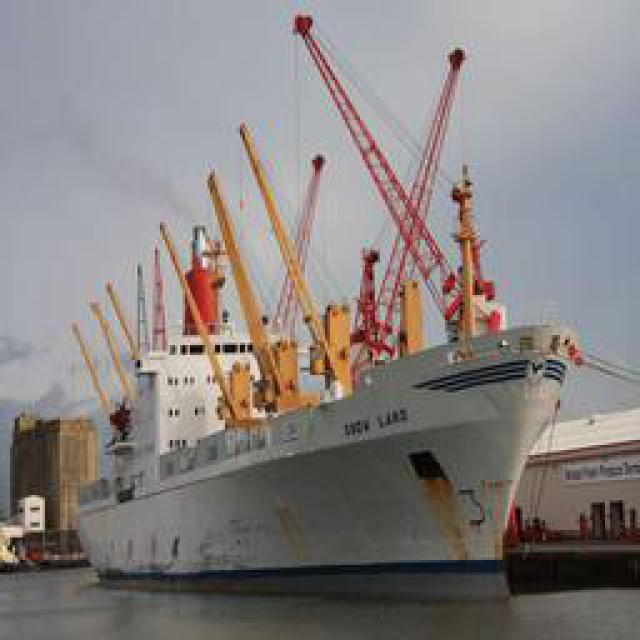Ship: (66, 202, 589, 585)
